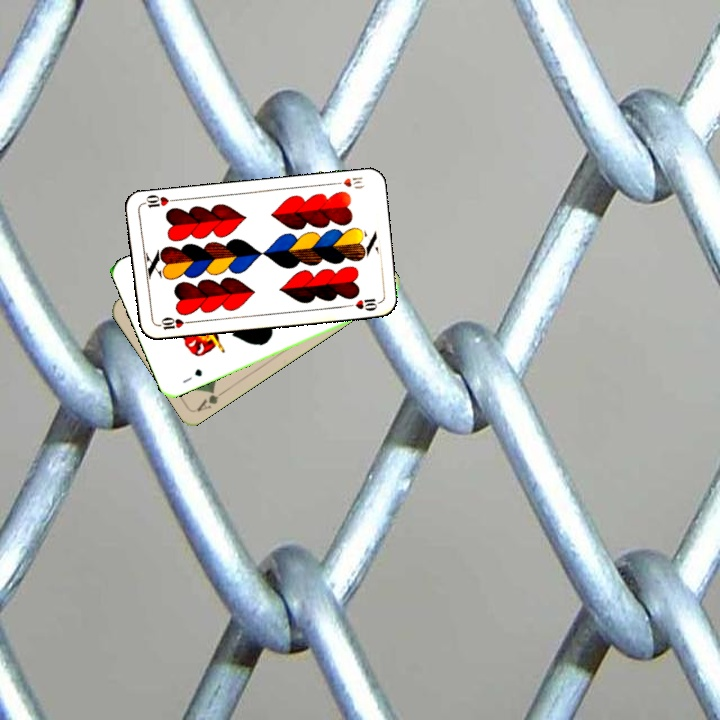GA: (193, 384, 229, 414)
GU: (179, 364, 205, 386)
H10: (152, 313, 193, 332), (328, 173, 367, 191)
